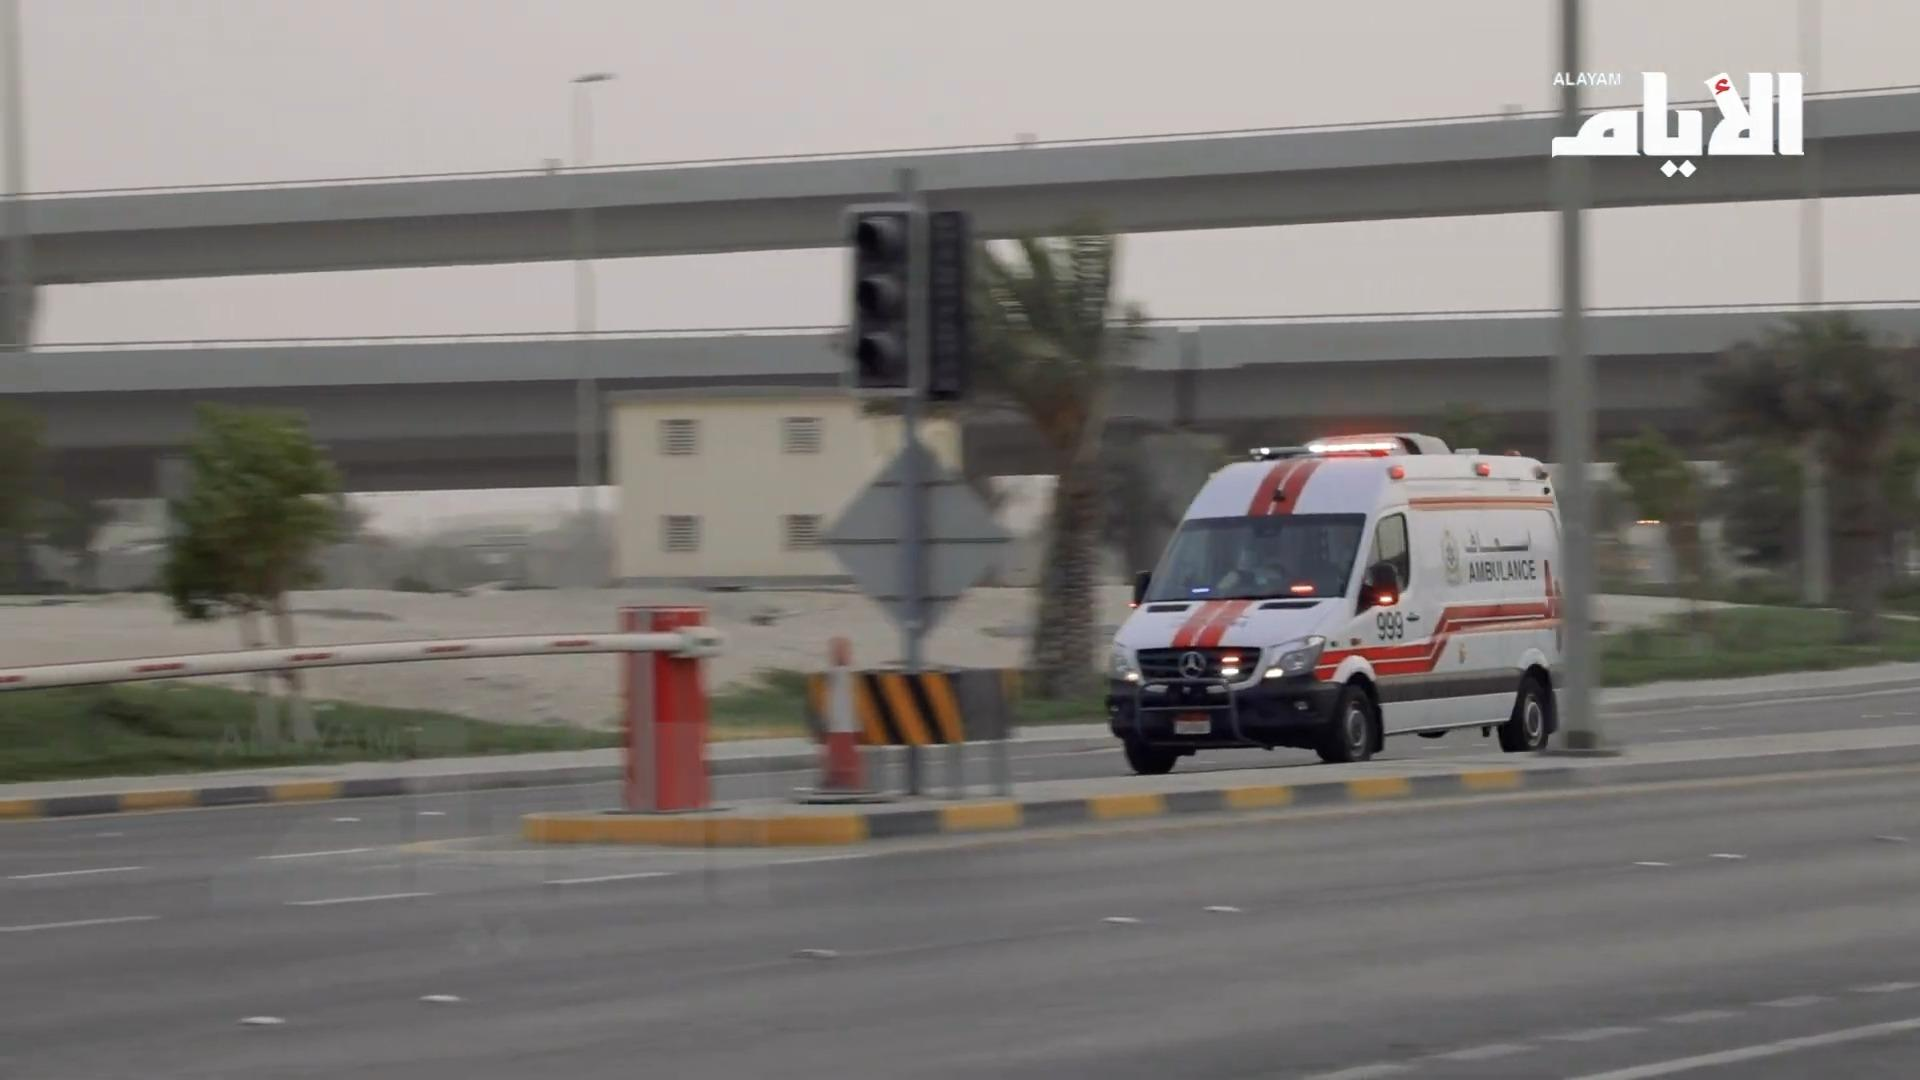ambulance_on: (1104, 431, 1563, 773)
